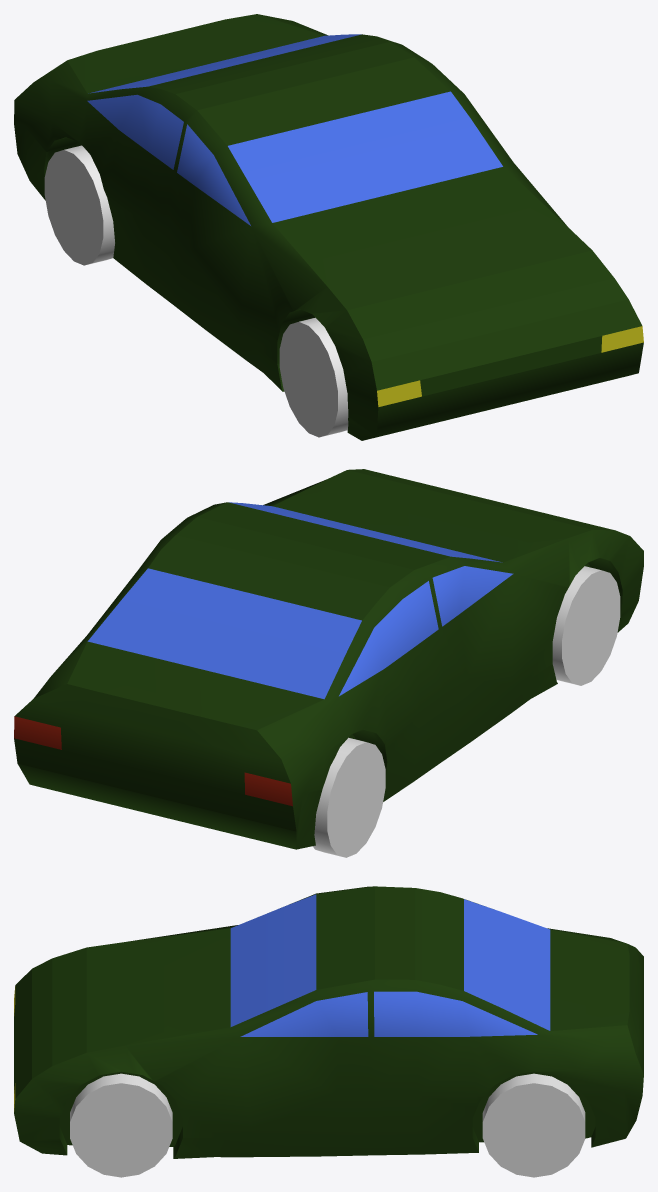
File: samochód 001.fbx
3 renders of one model, top to bottom at view 1: azimuth 30°, elevation 25°; view 2: azimuth 150°, elevation 25°; view 3: azimuth 270°, elevation 25°, orthographic. The views are drawn at different scales.
Visible parts, largest first — view 1: car, wheel4, wheel2; view 2: car, wheel4, wheel2; view 3: car, wheel3, wheel1.
Part boxes in pixels (x1=…): car: x1=14, y1=14, x2=643, y2=440; wheel4: x1=44, y1=145, x2=114, y2=265; wheel2: x1=279, y1=317, x2=348, y2=437; car: x1=14, y1=469, x2=643, y2=849; wheel4: x1=313, y1=737, x2=385, y2=857; wheel2: x1=552, y1=566, x2=620, y2=685; car: x1=14, y1=886, x2=643, y2=1158; wheel3: x1=482, y1=1073, x2=585, y2=1177; wheel1: x1=70, y1=1073, x2=172, y2=1177.
Size of the model in its own units: 2.75 by 1.95 by 6.05.
